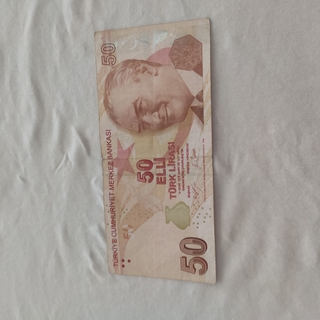50TLFront: (93, 17, 217, 284)
